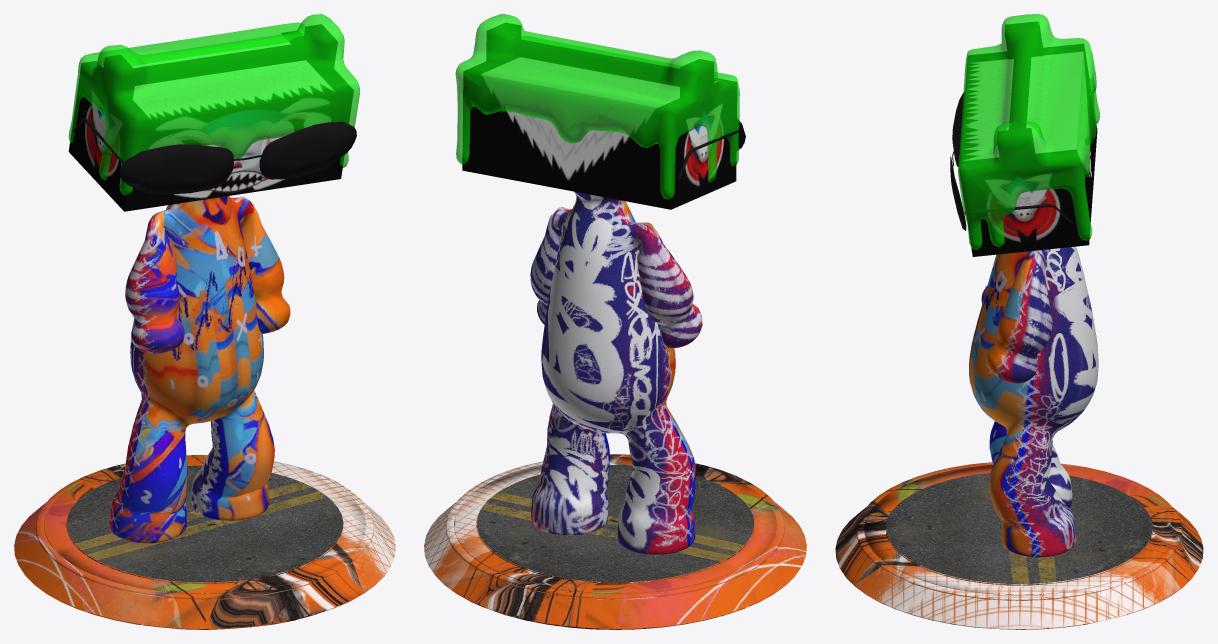
3 views of the same model, side by side, from view 1: azimuth 30°, elevation 25°; view 2: azimuth 150°, elevation 25°; view 3: azimuth 270°, elevation 25° (orthographic). The views are drawn at different scales.
Visible parts, largest first — view 1: BBody; view 2: BBody; view 3: BBody.
Boxes of the visible parts, x1,y1,x2,y2 form: BBody: (14,14,395,629); BBody: (424,14,806,629); BBody: (835,14,1203,629).
Size of the model in its own units: 1.45 by 2.16 by 1.45.
Materials: 6 (4 with a texture image).
